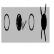correct: (16, 13, 26, 31)
not correct: (40, 2, 48, 44)
